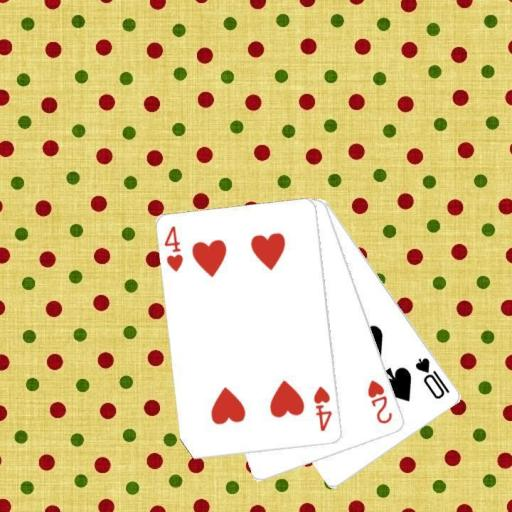card-corner: (412, 354, 452, 401), (364, 377, 394, 425), (161, 223, 185, 273), (311, 383, 334, 433)
